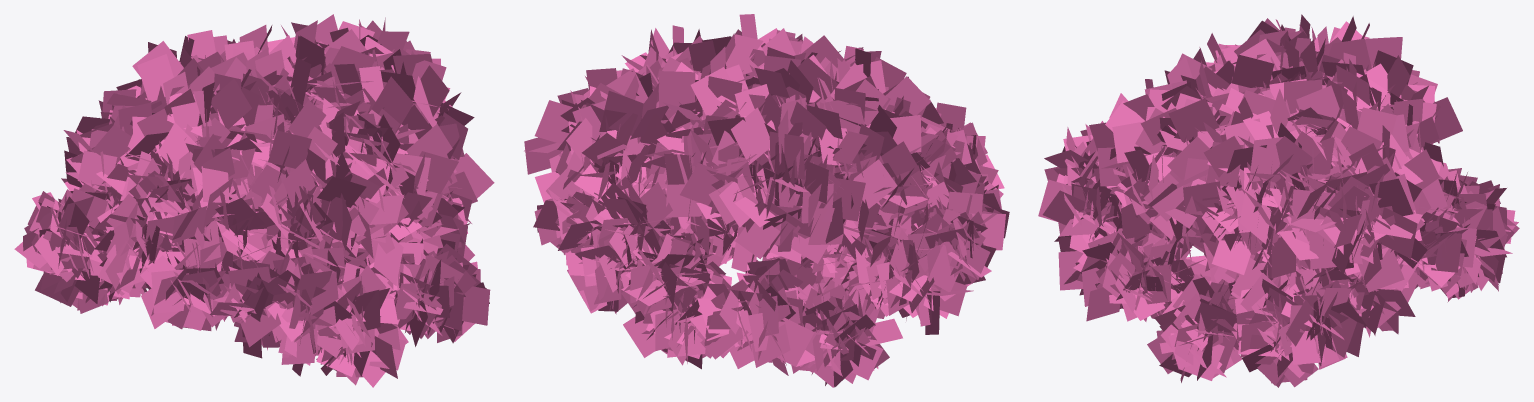
Rendered from Massive Tree Leafs.fbx.
The picture shows the model from 3 angles, left to right: view 1: azimuth 30°, elevation 25°; view 2: azimuth 150°, elevation 25°; view 3: azimuth 270°, elevation 25°; orthographic projection. The views are drawn at different scales.
Visible parts, largest first — view 1: TreeLeafs_LOD00; view 2: TreeLeafs_LOD00; view 3: TreeLeafs_LOD00.
Part boxes in pixels (<box>): TreeLeafs_LOD00: <box>14,14,494,387</box>; TreeLeafs_LOD00: <box>524,14,1009,387</box>; TreeLeafs_LOD00: <box>1038,14,1519,387</box>.
Size of what is drawn, in the model's own units: 9202 by 5485 by 8662.
